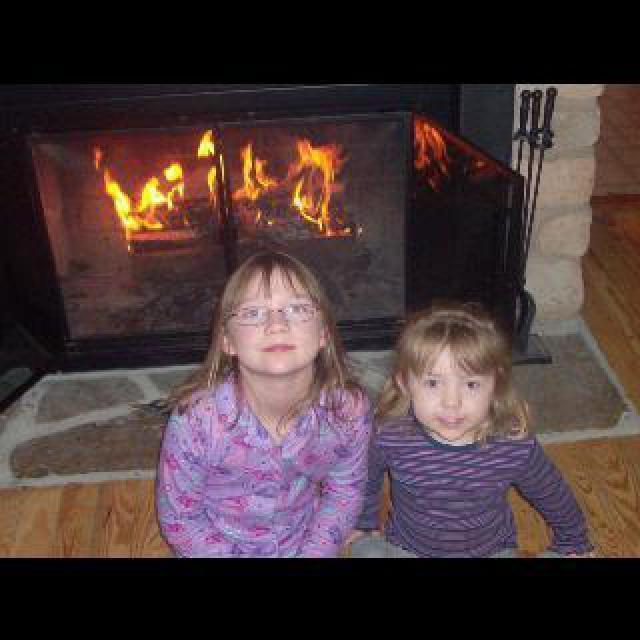fire: (90, 124, 364, 248)
